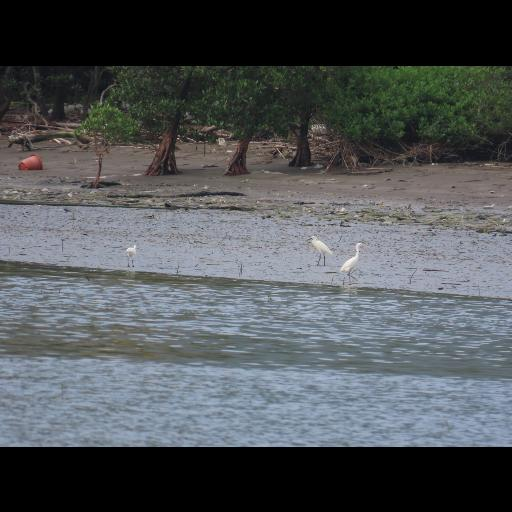chinese_egret: (340, 242, 368, 282)
